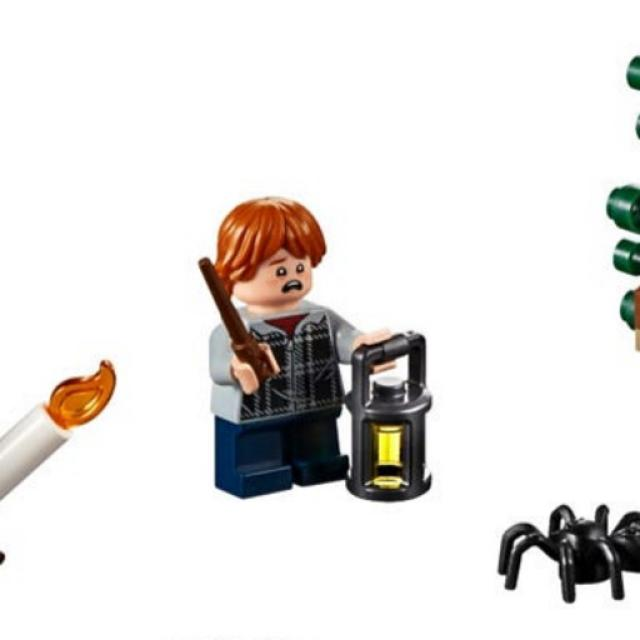Lego-Minifigures: (164, 153, 476, 544)
